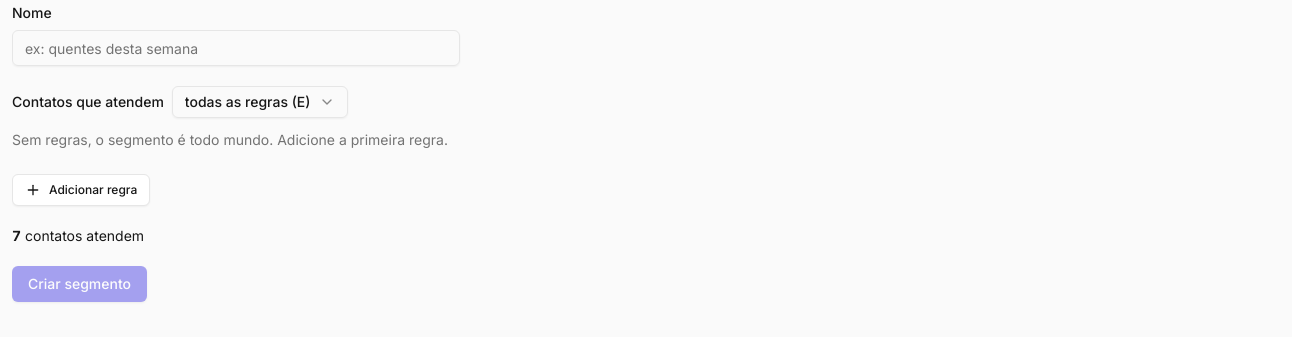
Test: SegmentBuilder › starts empty, counts everyone, and adds a tag rule by default
Expected: the text "Sem regras, o segmento é todo mundo" is shown, top-left (12, 131), bottom-right (448, 148)
Expected: the text "7" is shown, top-left (12, 227), bottom-right (21, 244)
Click the button "Adicionar regra": click(81, 190) top-left (12, 174), bottom-right (150, 206)
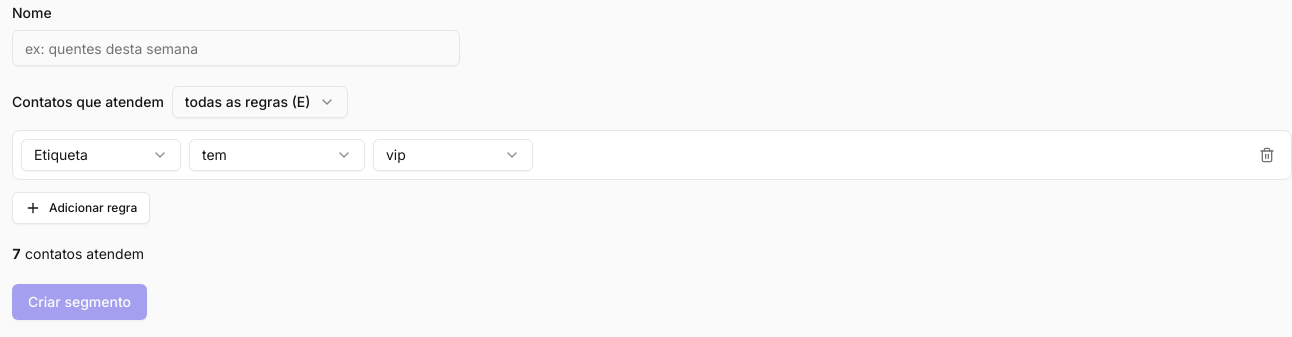
Expected: the dropdown named "Tipo da regra 1" is shown, top-left (21, 139), bottom-right (181, 171)
Expected: the dropdown named "Etiqueta da regra 1" reads "vip", top-left (373, 139), bottom-right (533, 171)
